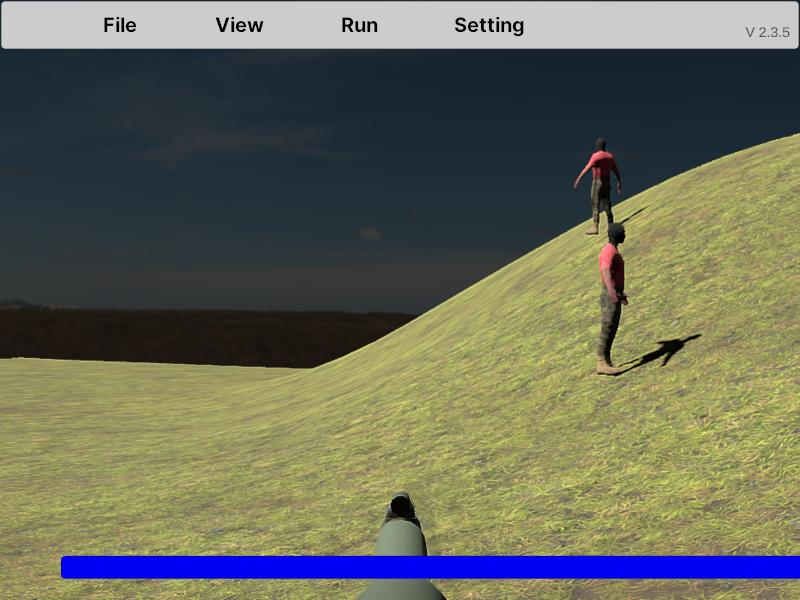Human: (596, 221, 629, 377), (574, 137, 622, 236)
